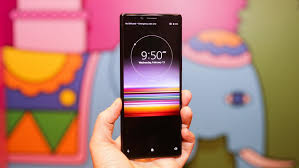sony: (117, 11, 185, 161)
